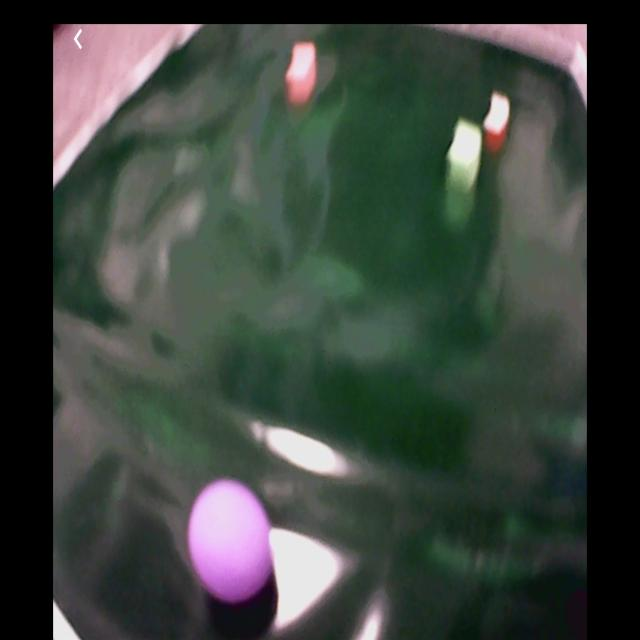ball: (189, 482, 275, 606)
